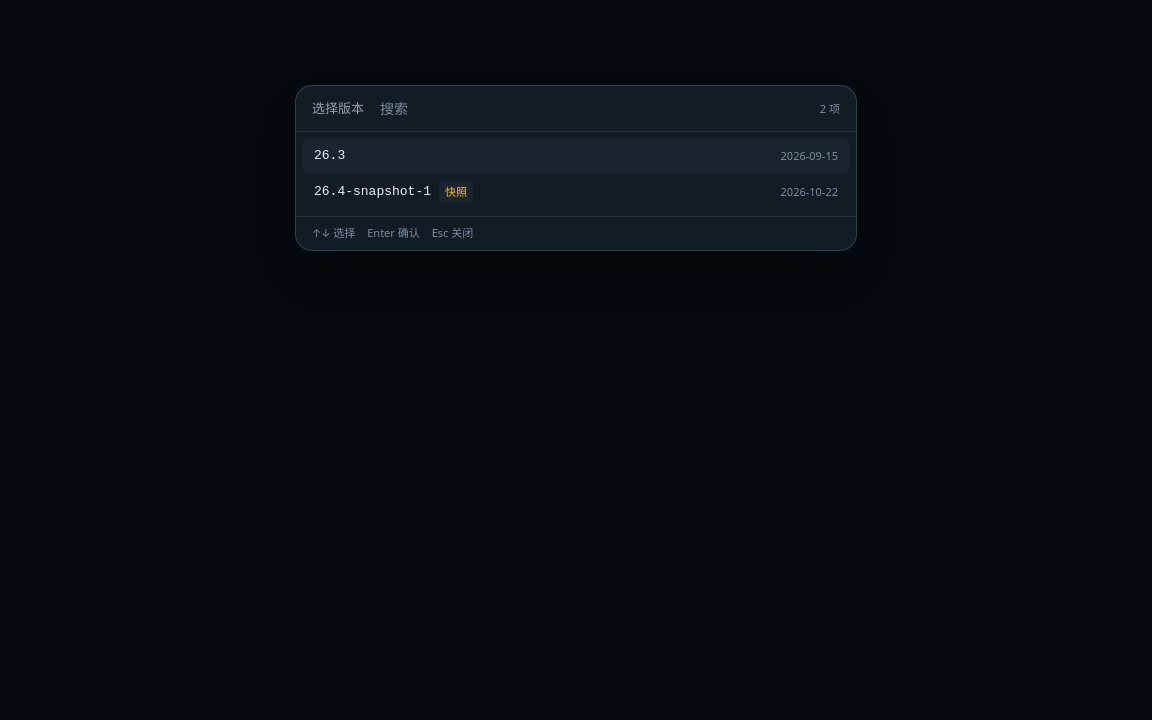
it: PickerDialog › 输入即过滤，且不区分大小写
Type "SNAPSHOT" into the field at [596, 109], box [380,98,812,119]
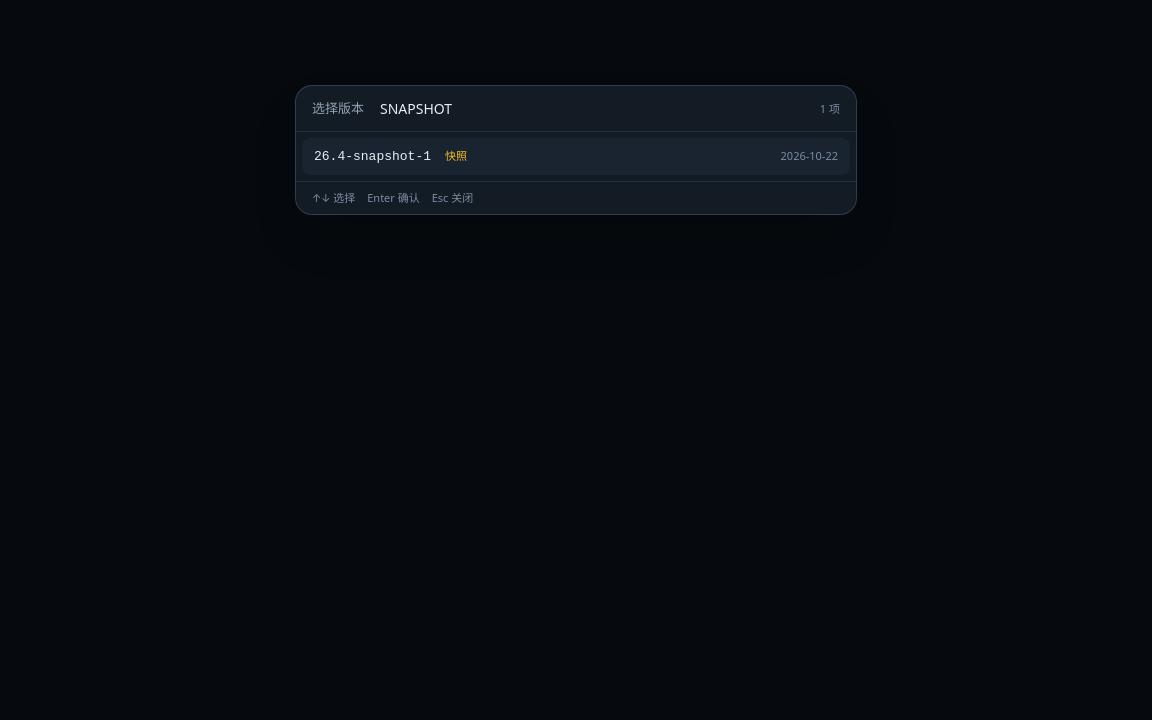
Expected: the text "26.4-snapshot-1" is shown, [314,147,431,166]
Result: the button "26.3" is gone
